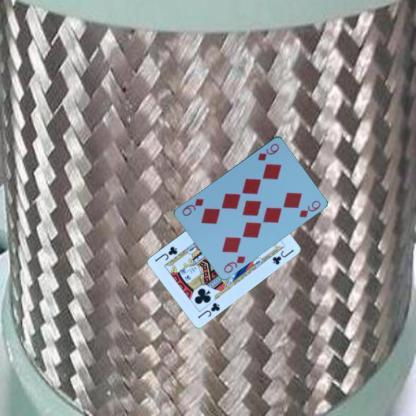9d: (255, 140, 281, 162), (221, 253, 247, 274)
Jc: (196, 300, 222, 320)
